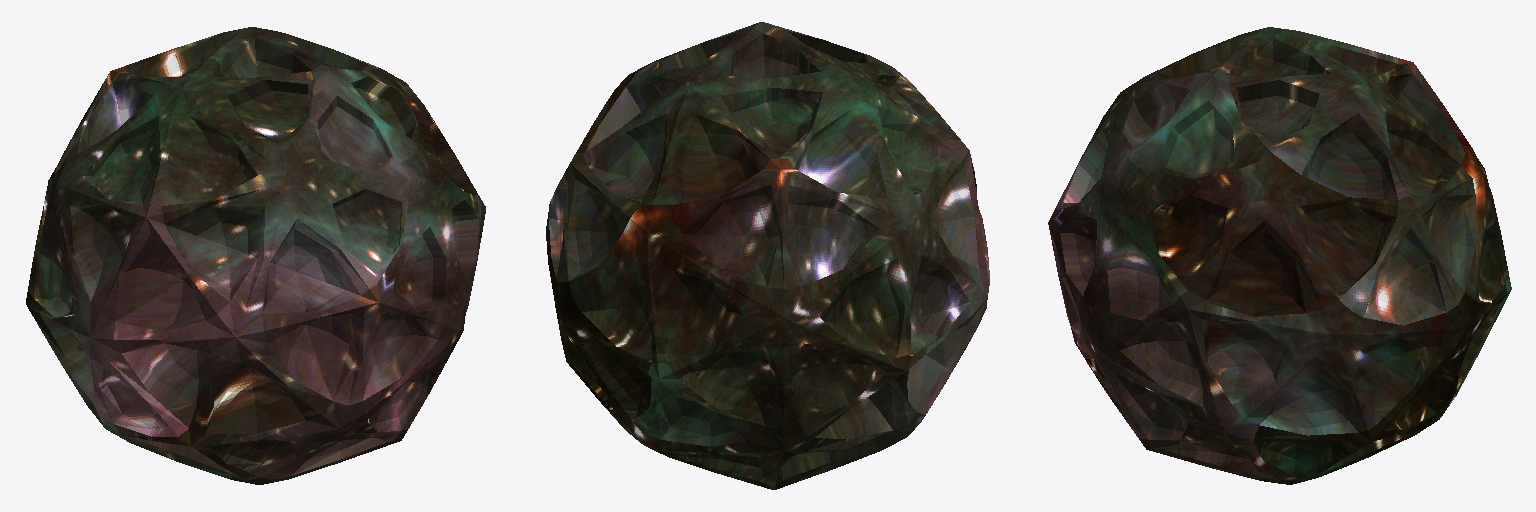
3 views of the same model, side by side, from view 1: azimuth 30°, elevation 25°; view 2: azimuth 150°, elevation 25°; view 3: azimuth 270°, elevation 25° (orthographic).
Visible parts, largest first — view 1: pSolid1; view 2: pSolid1; view 3: pSolid1.
Part boxes in pixels (x1,y1,x2,y2): pSolid1: (26, 27, 485, 484); pSolid1: (546, 22, 989, 489); pSolid1: (1048, 27, 1511, 484).
Size of the model in its own units: 8.3 by 8.22 by 8.62.
Materials: 1 (1 with a texture image).